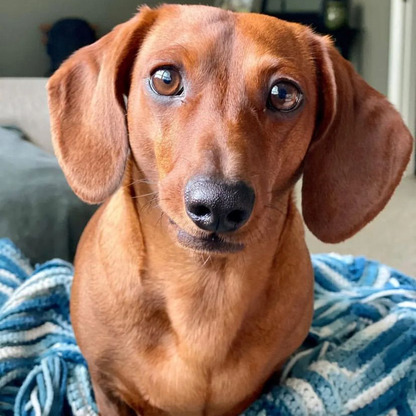dachshund: (40, 25, 396, 400)
